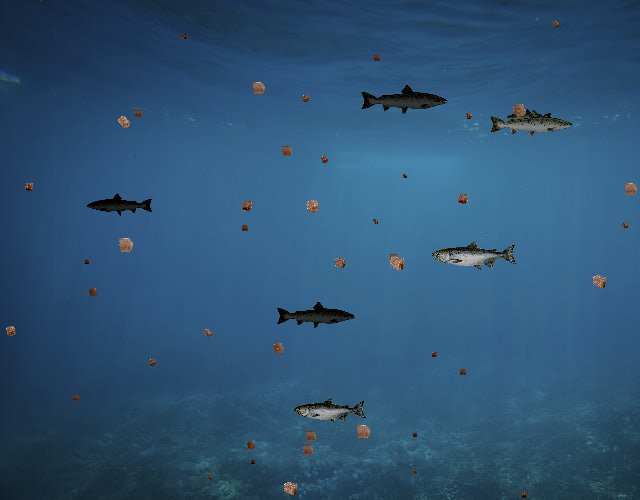Fish: (359, 83, 449, 115), (488, 108, 574, 139), (432, 240, 518, 271), (276, 300, 357, 330), (294, 397, 367, 423), (86, 192, 154, 217), (506, 108, 553, 125)
Pellet: (110, 229, 140, 260), (245, 74, 272, 101), (235, 195, 258, 217), (0, 320, 22, 342), (384, 249, 402, 267), (369, 51, 384, 65), (428, 348, 441, 361), (177, 31, 190, 44), (516, 488, 530, 500), (204, 472, 214, 482)
